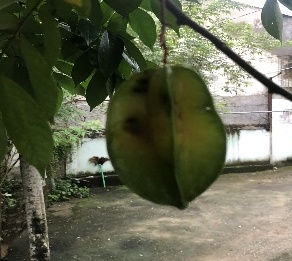Khe: (101, 64, 229, 213)
